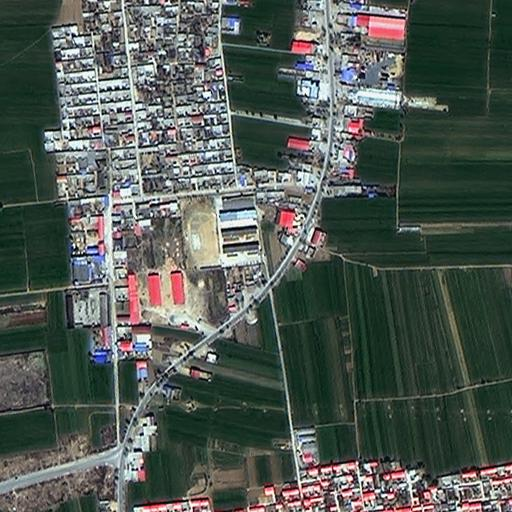school: (182, 189, 259, 268)
